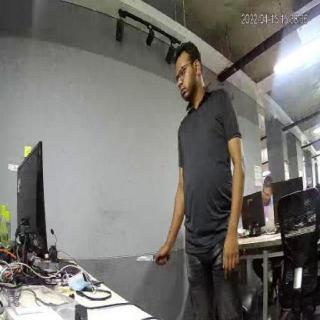knife: (136, 250, 162, 271)
